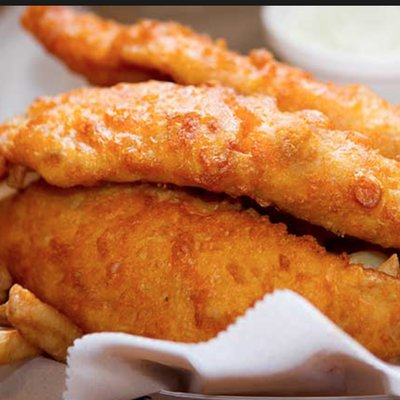sushi: (256, 8, 400, 84)
